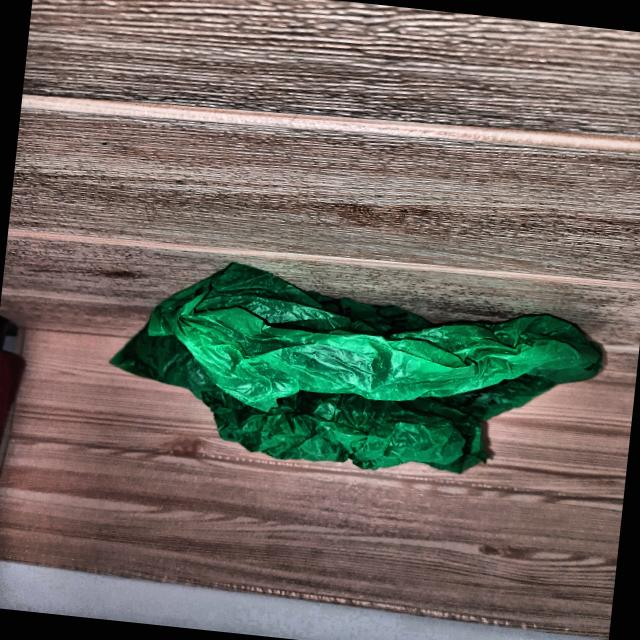plastic bag: (112, 252, 590, 488)
